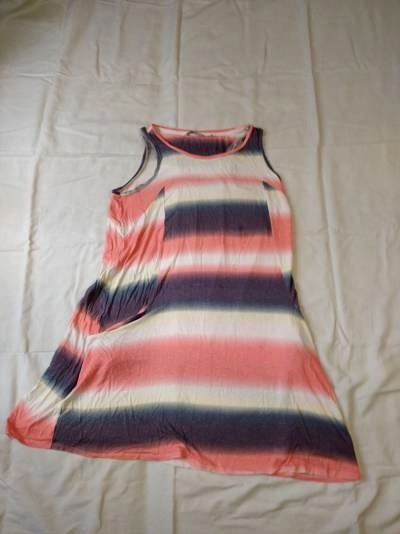Dress: (18, 76, 378, 507)
